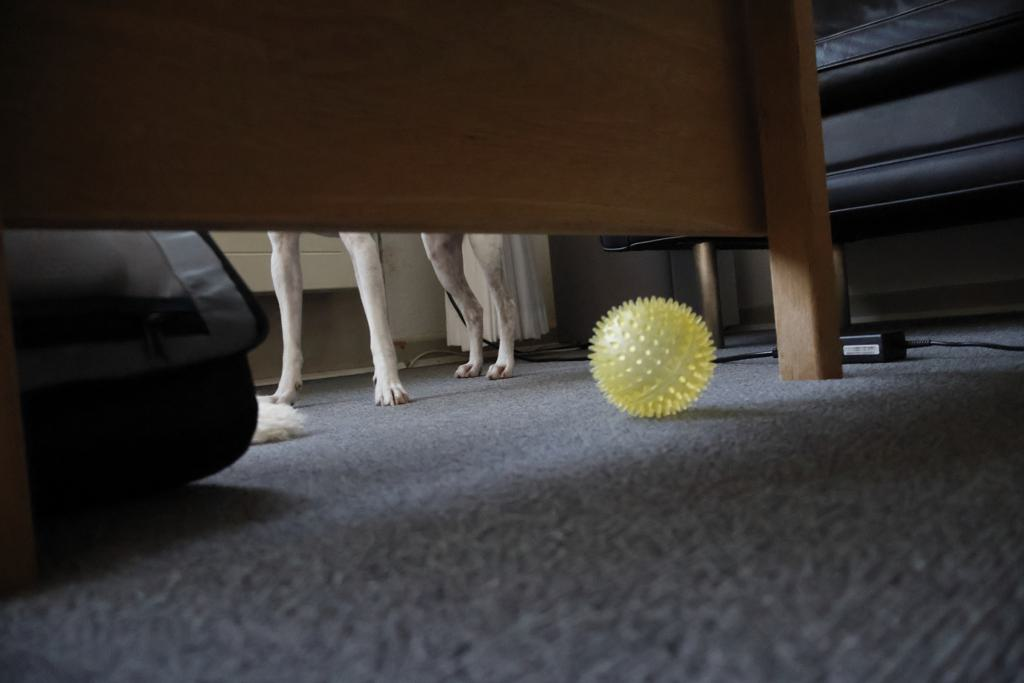Dog: (260, 226, 532, 418)
